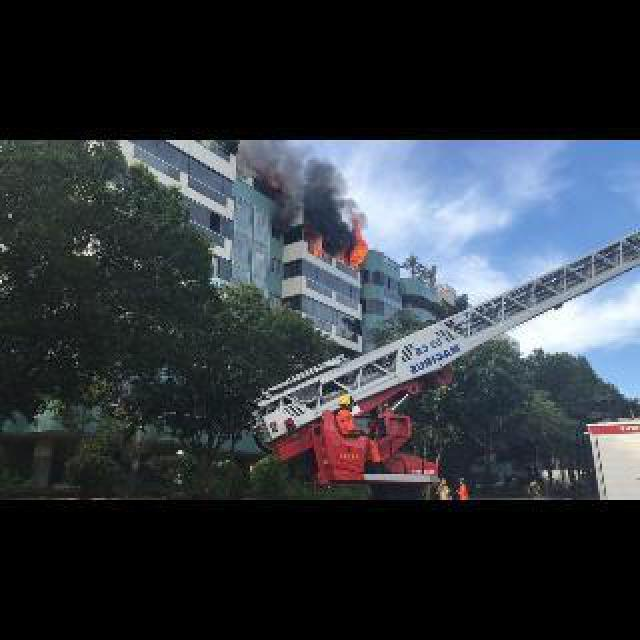Fire: (340, 220, 368, 262)
